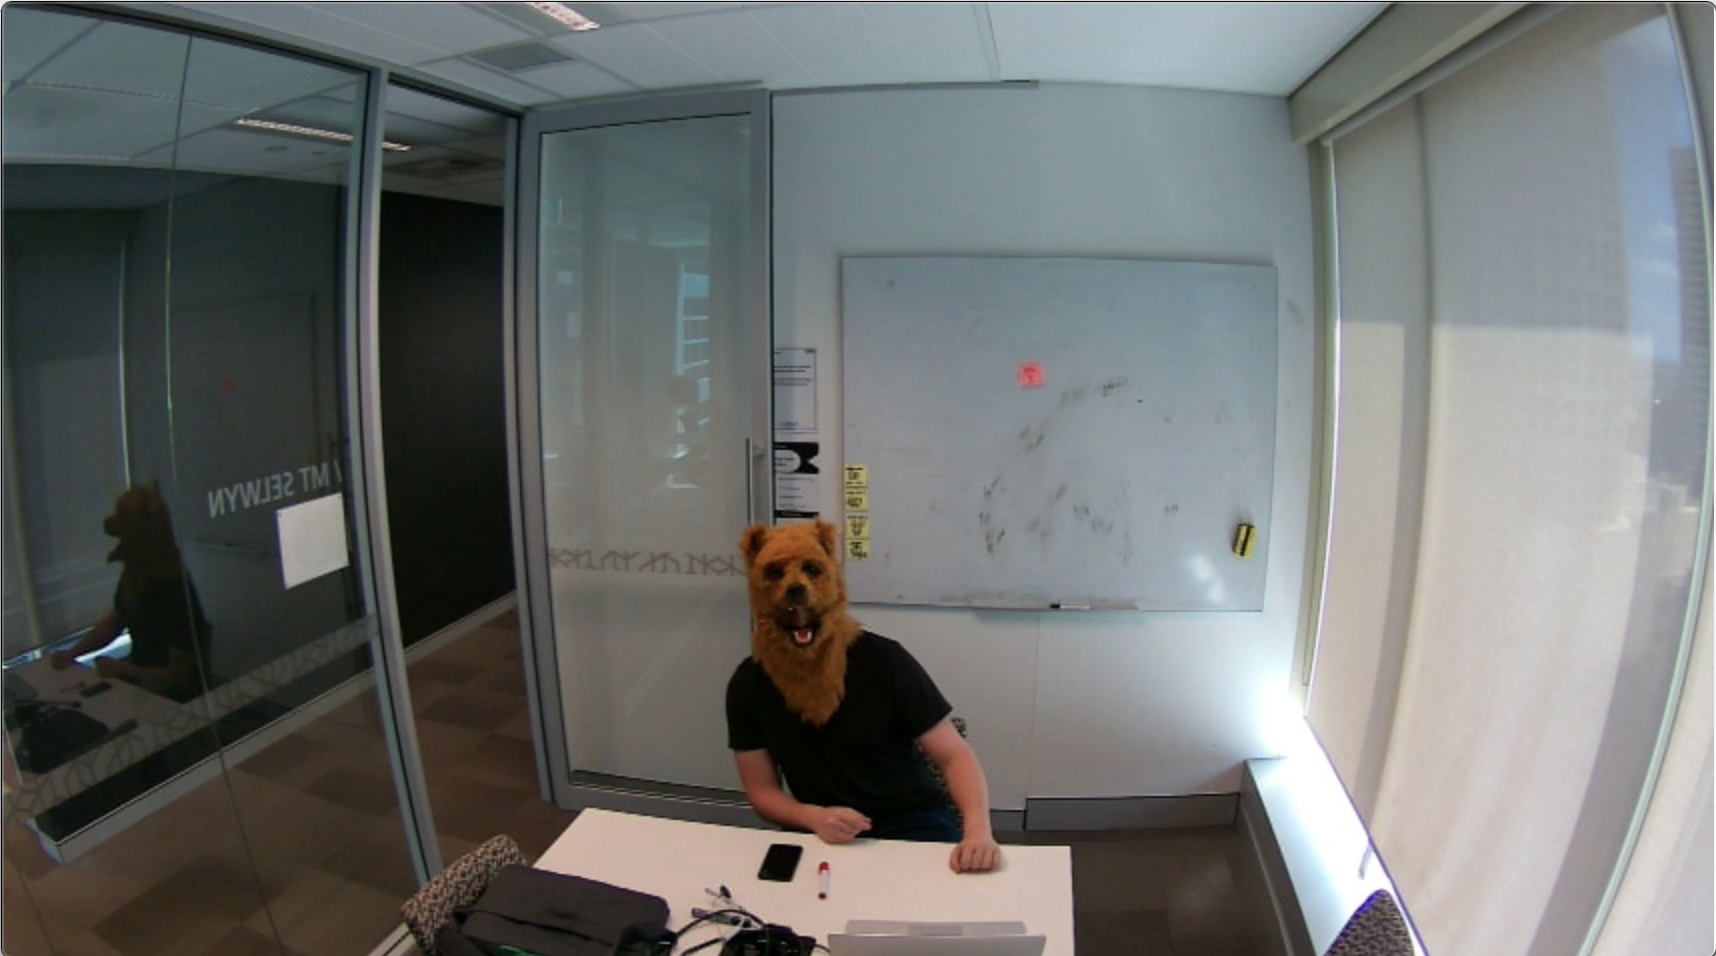Bear: (738, 516, 857, 666)
